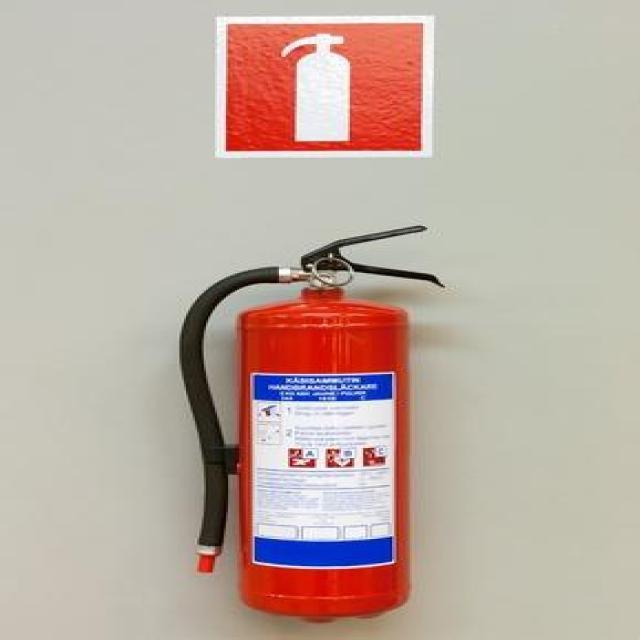fire_extinguisher: (174, 222, 453, 624)
